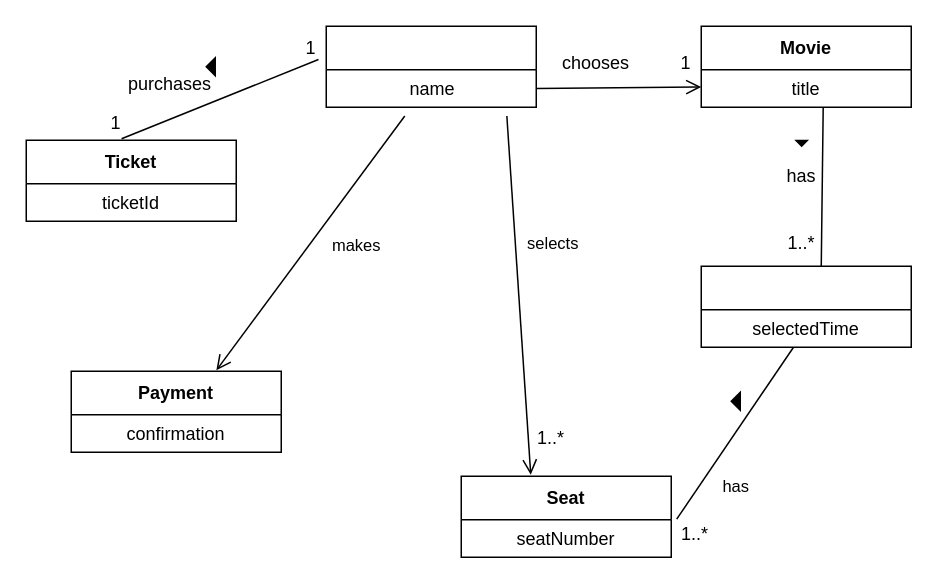
This 938x584 diagram has some shape labels left out. Each missing label, with the box of its shape:
Customer: (325, 25, 536, 107)
Showtime: (700, 265, 911, 347)
